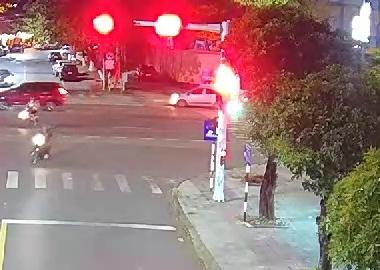red_light: (213, 63, 239, 117), (152, 11, 182, 40), (93, 16, 114, 35)
stop_line: (2, 215, 179, 232)
